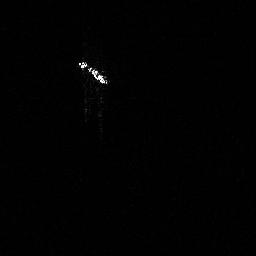ship: (74, 57, 111, 88)
